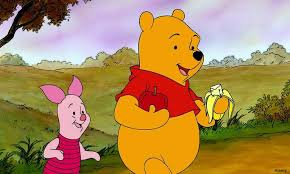Winnie: (130, 8, 204, 115)
